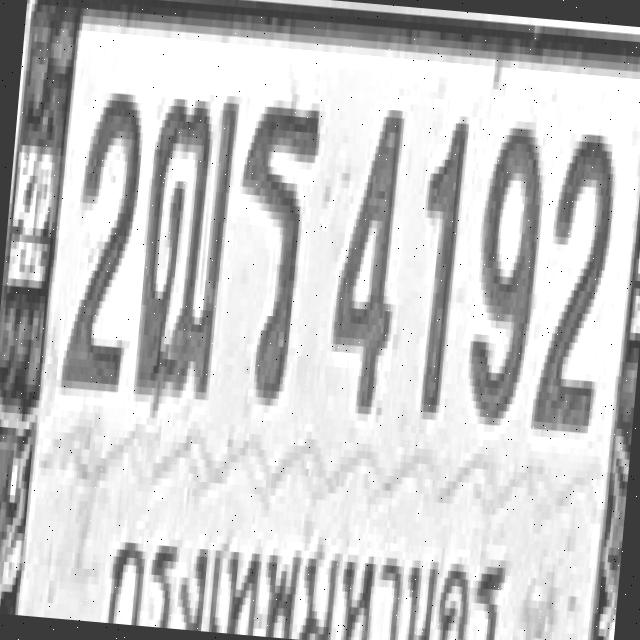1: (407, 113, 469, 413)
2: (60, 83, 146, 392), (532, 128, 617, 430)
27ThorPhuThao: (130, 85, 240, 404)
4: (326, 102, 408, 412)
44RorRuea: (224, 94, 322, 404)
9: (464, 122, 546, 423)
Bangkok: (100, 502, 514, 640)
